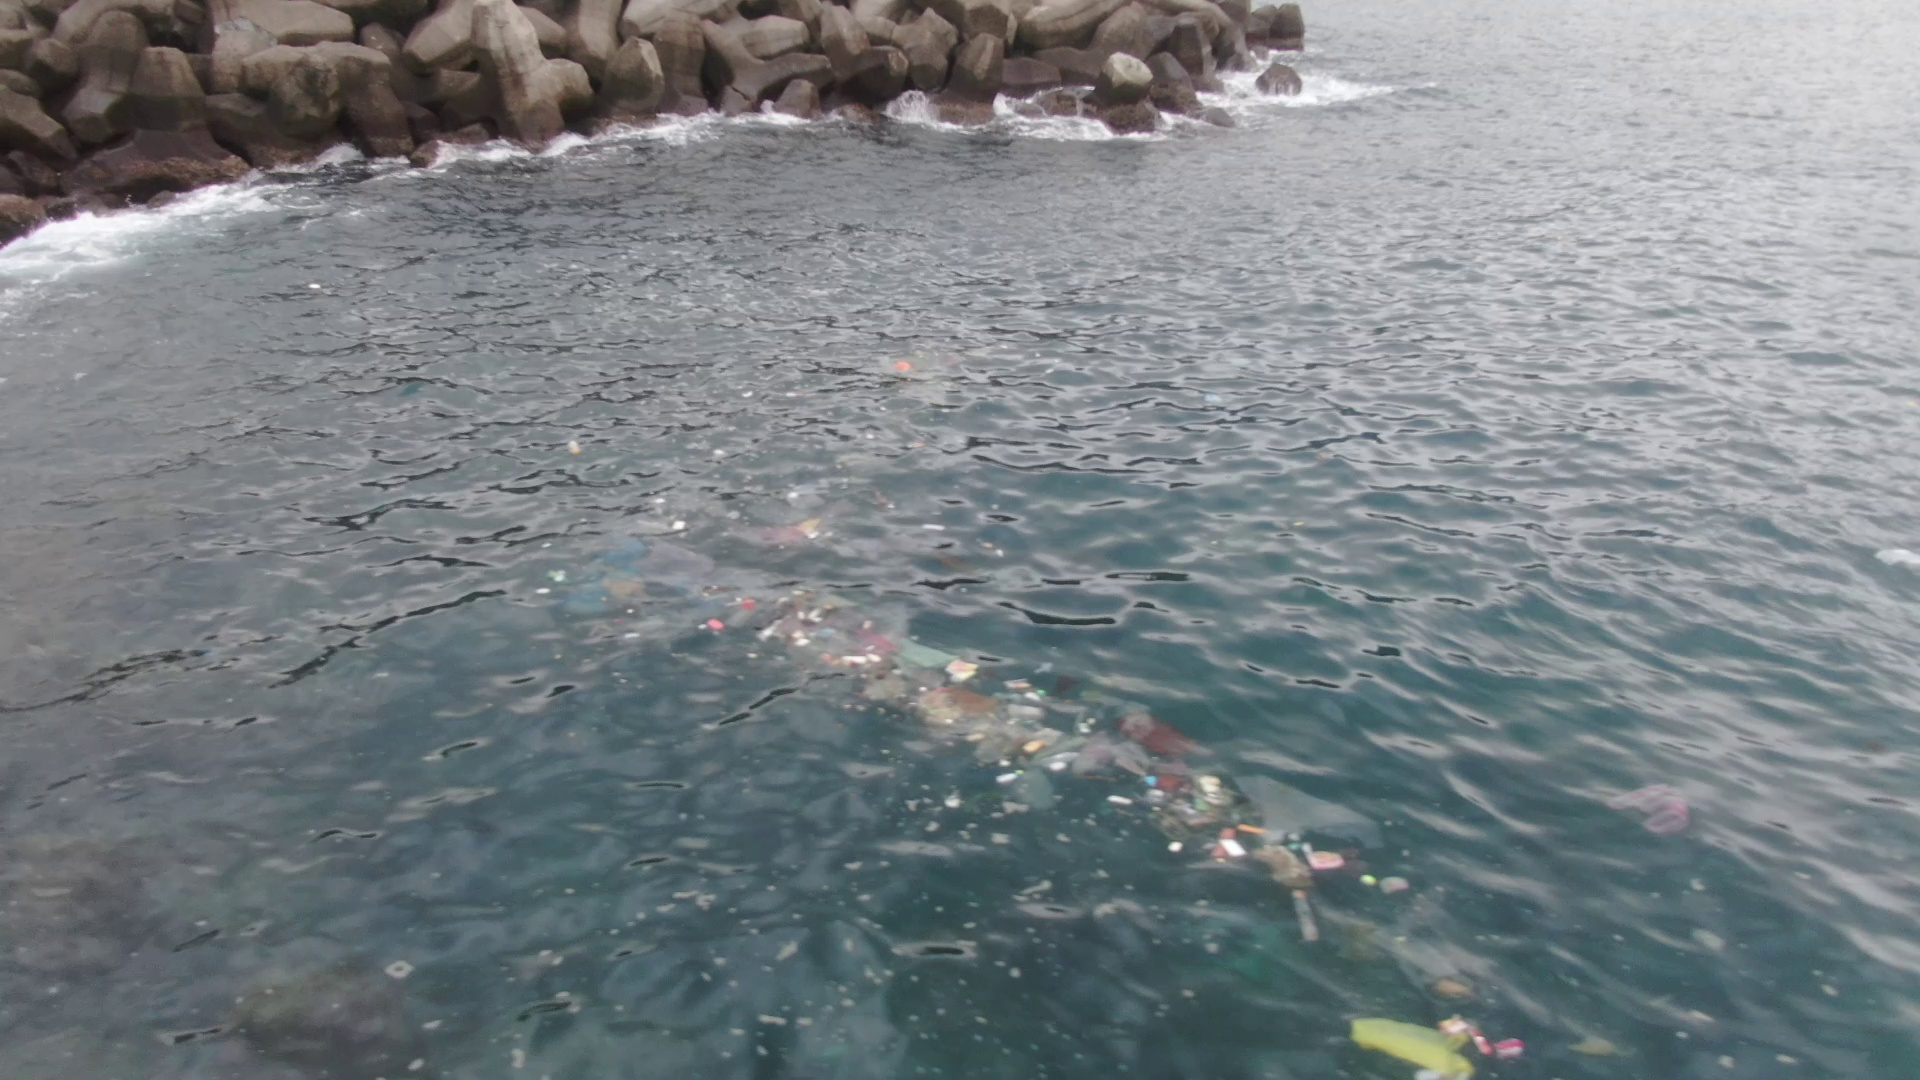garbage: (682, 578, 1356, 952), (1336, 1000, 1532, 1080), (1605, 775, 1702, 840), (1870, 538, 1920, 578)
